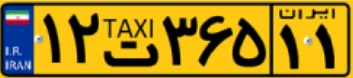character: (103, 12, 161, 70), (232, 8, 267, 71), (162, 11, 199, 70), (199, 12, 233, 70), (65, 9, 99, 64), (102, 39, 162, 69), (38, 9, 66, 68), (310, 23, 342, 71), (276, 23, 307, 69)
